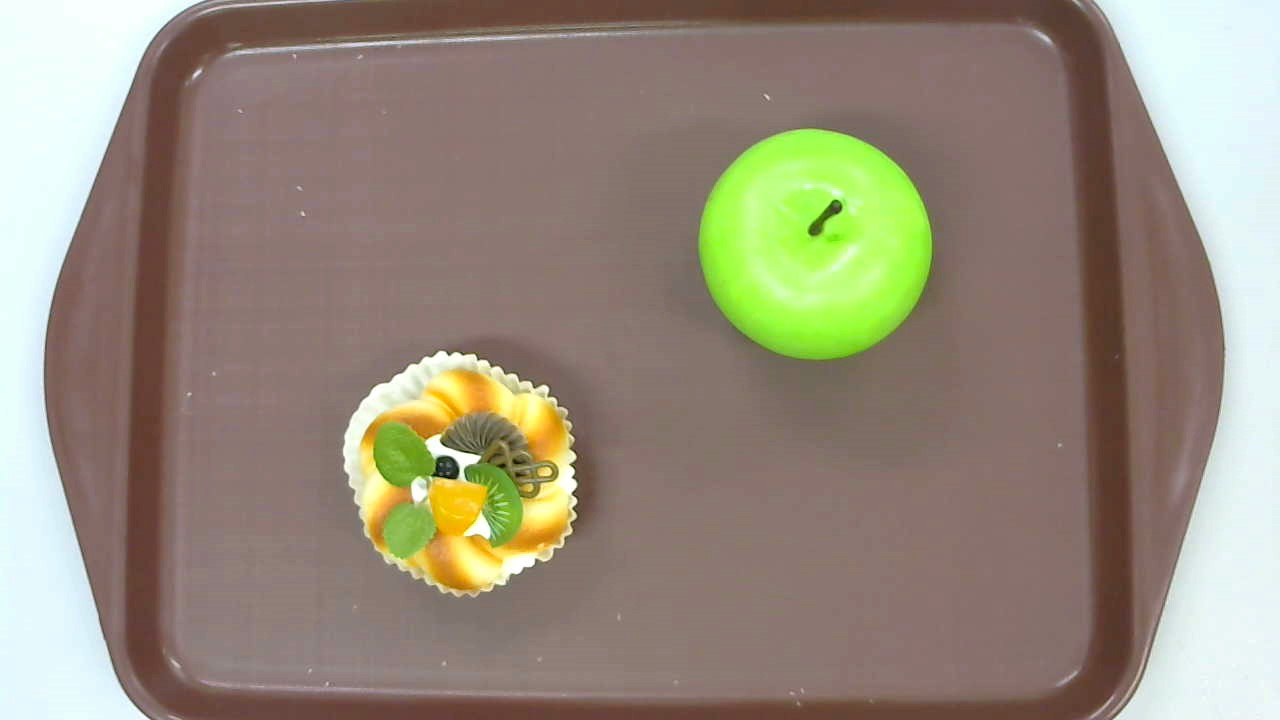fruit tart: (341, 350, 578, 598)
green apple: (698, 128, 931, 362)
